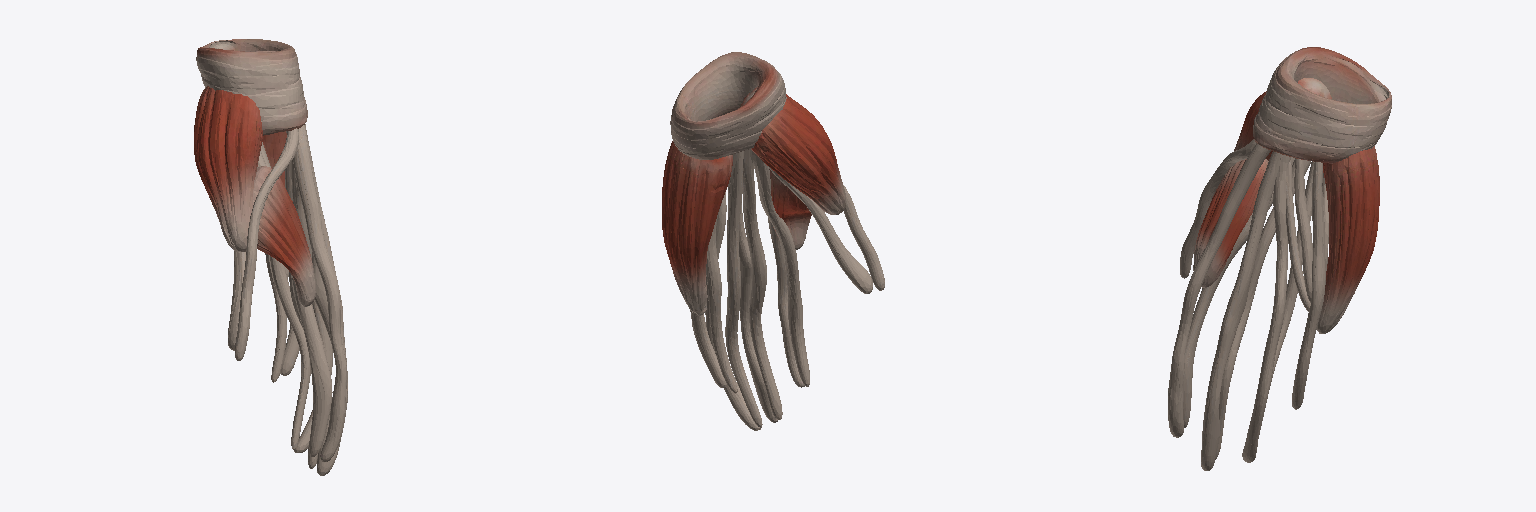
3 views of the same model, side by side, from view 1: azimuth 30°, elevation 25°; view 2: azimuth 150°, elevation 25°; view 3: azimuth 270°, elevation 25° (orthographic).
Visible parts, largest first — view 1: Group51219; view 2: Group51219; view 3: Group51219.
Boxes of the visible parts, <box> form: Group51219: <box>194,39,347,475</box>; Group51219: <box>662,52,884,430</box>; Group51219: <box>1168,47,1391,470</box>.
Bounding box in the file's own units: 3.2 × 8.92 × 4.53.
Materials: 1 (1 with a texture image).